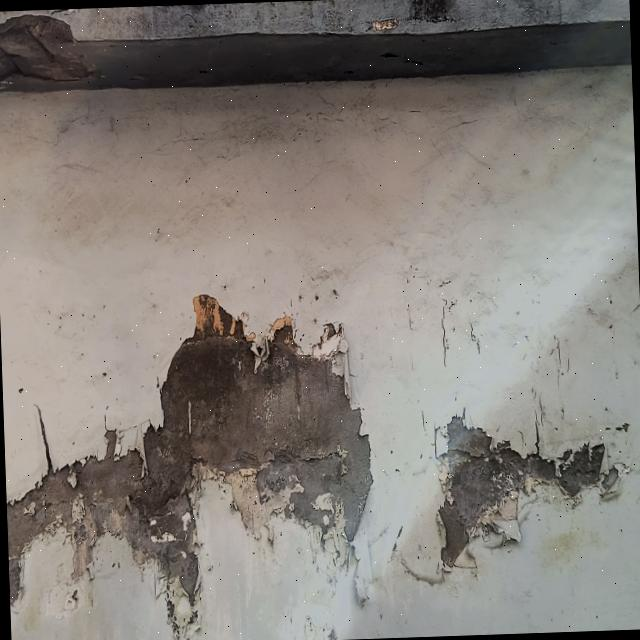Paint Peeling: (6, 294, 371, 640), (435, 416, 630, 571)
Scaling: (0, 15, 93, 80)
